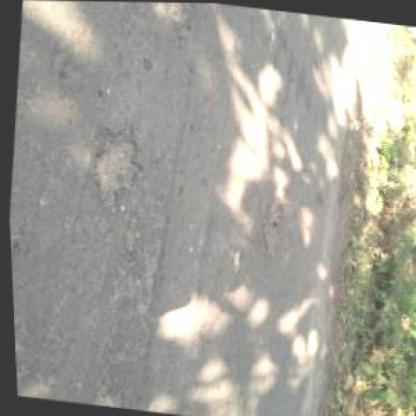pothole: (80, 120, 146, 210), (251, 197, 286, 256)
